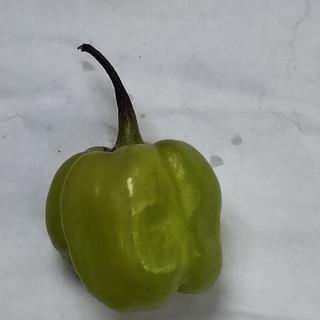Grade-B: (42, 136, 226, 313)
